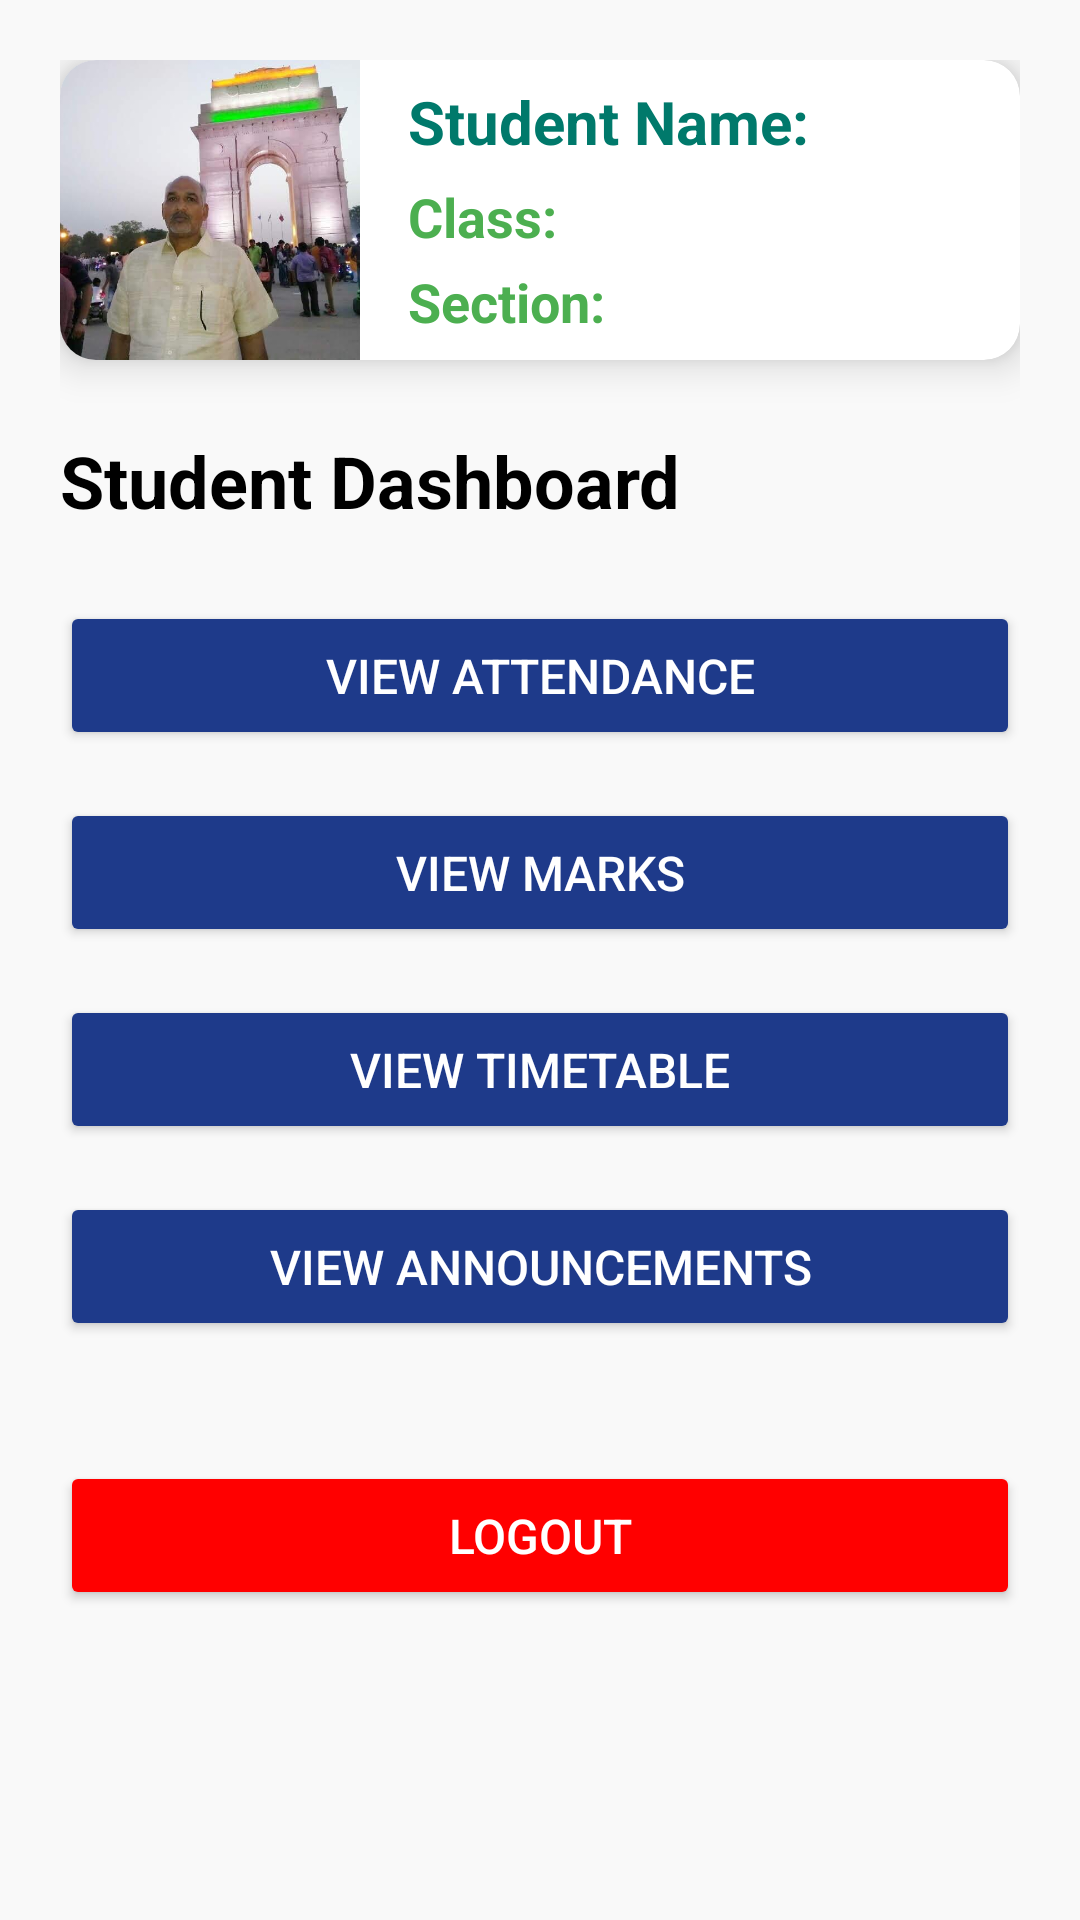

Screen size 1080px x 1920px. Icon name, then its box in pixels as detection(x1, y1, x2, y2):
Student Profile Image: detection(60, 60, 360, 360)
